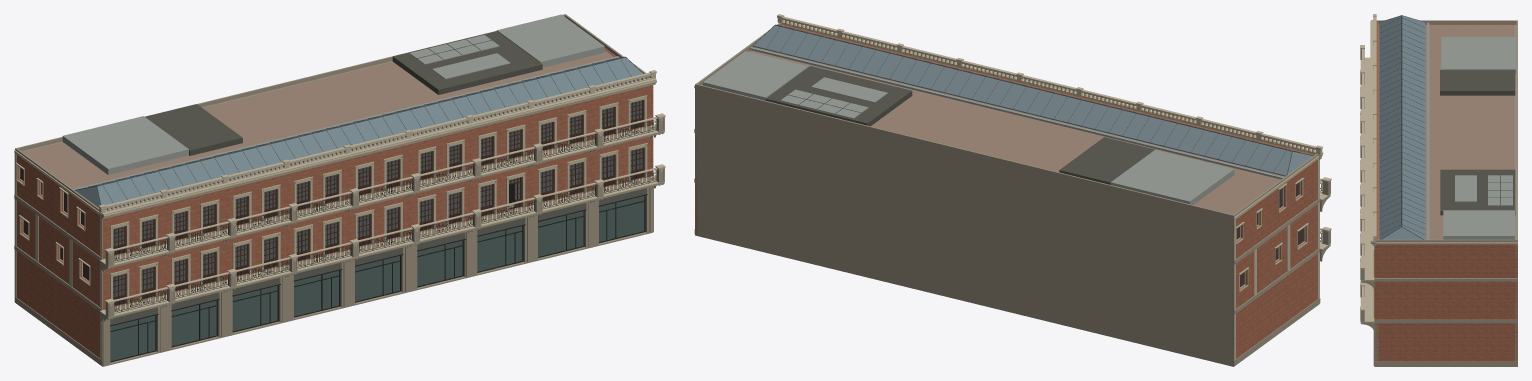
The model's file is hongkou-gongyi-fang-975-987-sichuan-road-raw.glb.
The picture shows the model from 3 angles, left to right: view 1: azimuth 30°, elevation 25°; view 2: azimuth 150°, elevation 25°; view 3: azimuth 270°, elevation 25°; orthographic projection. The views are drawn at different scales.
Visible parts, largest first — view 1: 公益坊四川北路975–987号商住楼（今潮8弄3号楼）; view 2: 公益坊四川北路975–987号商住楼（今潮8弄3号楼）; view 3: 公益坊四川北路975–987号商住楼（今潮8弄3号楼）.
Boxes of the visible parts, x1,y1,x2,y2 form: 公益坊四川北路975–987号商住楼（今潮8弄3号楼）: (14,14,665,366); 公益坊四川北路975–987号商住楼（今潮8弄3号楼）: (694,14,1331,366); 公益坊四川北路975–987号商住楼（今潮8弄3号楼）: (1360,14,1517,366).
Bounding box in the file's own units: 47.11 × 13.43 × 14.11.
Materials: 18 (1 with a texture image).
